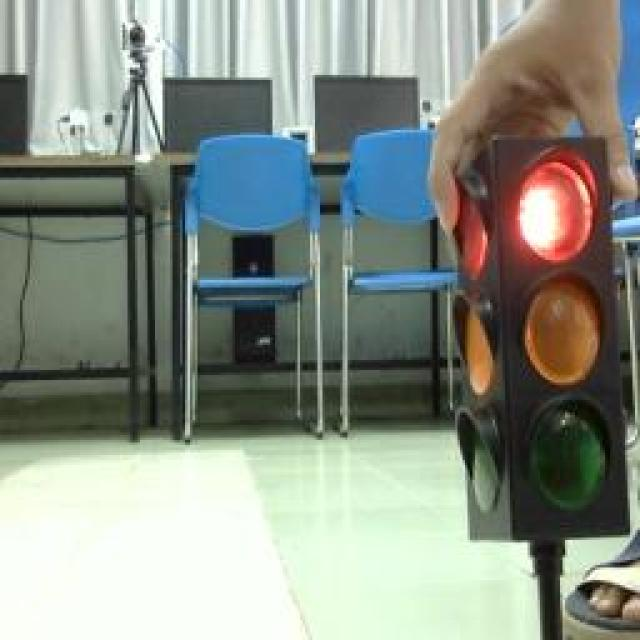-: (512, 146, 605, 276)
